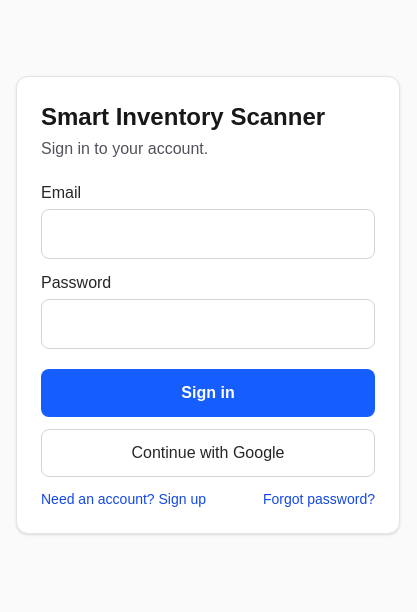
Test: login page reset + google › shows a repair action when account creation succeeds but workspace setup fails
Click the button "Need an account? Sign up". click: (124, 499)
box: left=41, top=489, right=206, bottom=509
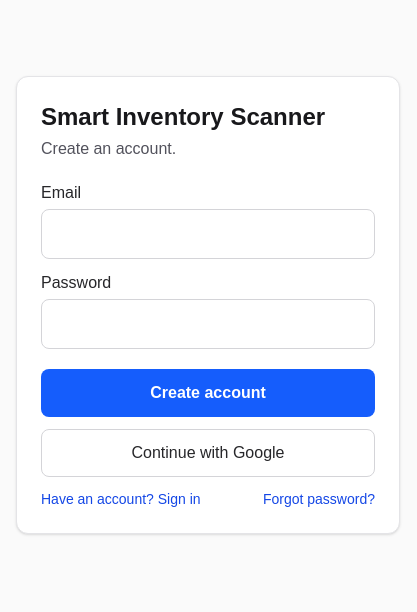
Type "a@b.co" into the field with test id "login-email". click: (208, 234)
box: left=41, top=209, right=375, bottom=259
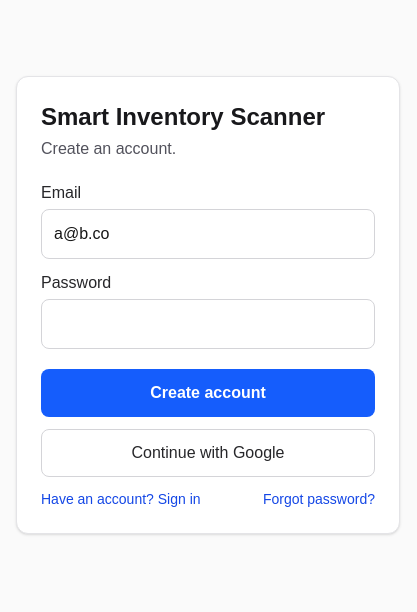
Type "password" into the password field with test id "login-password". click: (208, 324)
box: left=41, top=299, right=375, bottom=349
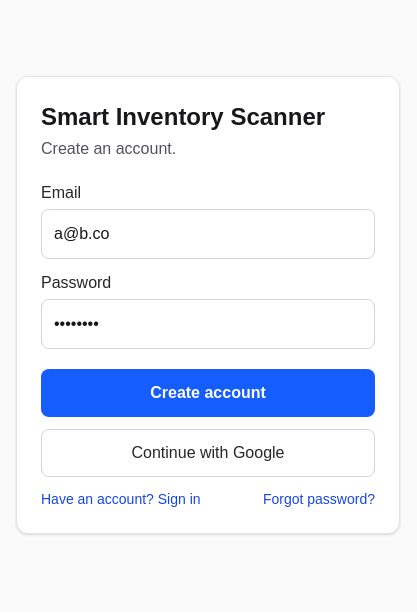
Click the button with test id "login-button". click: (208, 393)
box: left=41, top=369, right=375, bottom=417
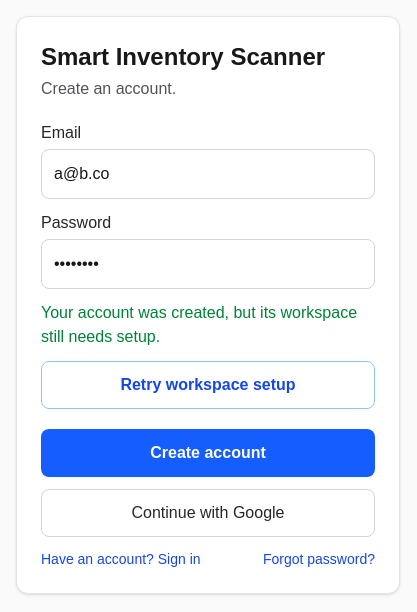
Expected: the button with test id "workspace-retry" is shown, left=41, top=361, right=375, bottom=409
Expected: the text with test id "login-notice" reads "Your account was created, but its workspace still needs setup.", left=41, top=304, right=357, bottom=345
